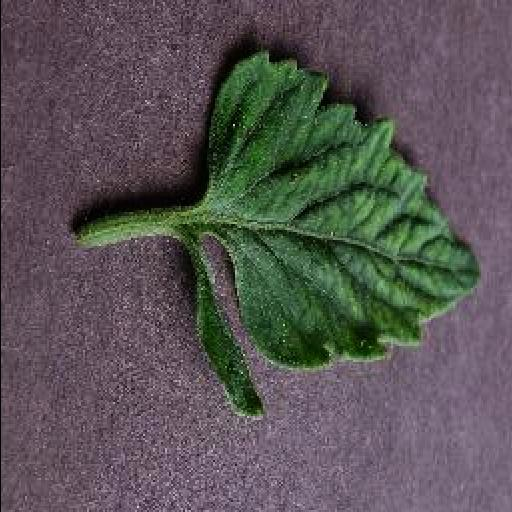disease_tomato: (186, 49, 482, 423)
